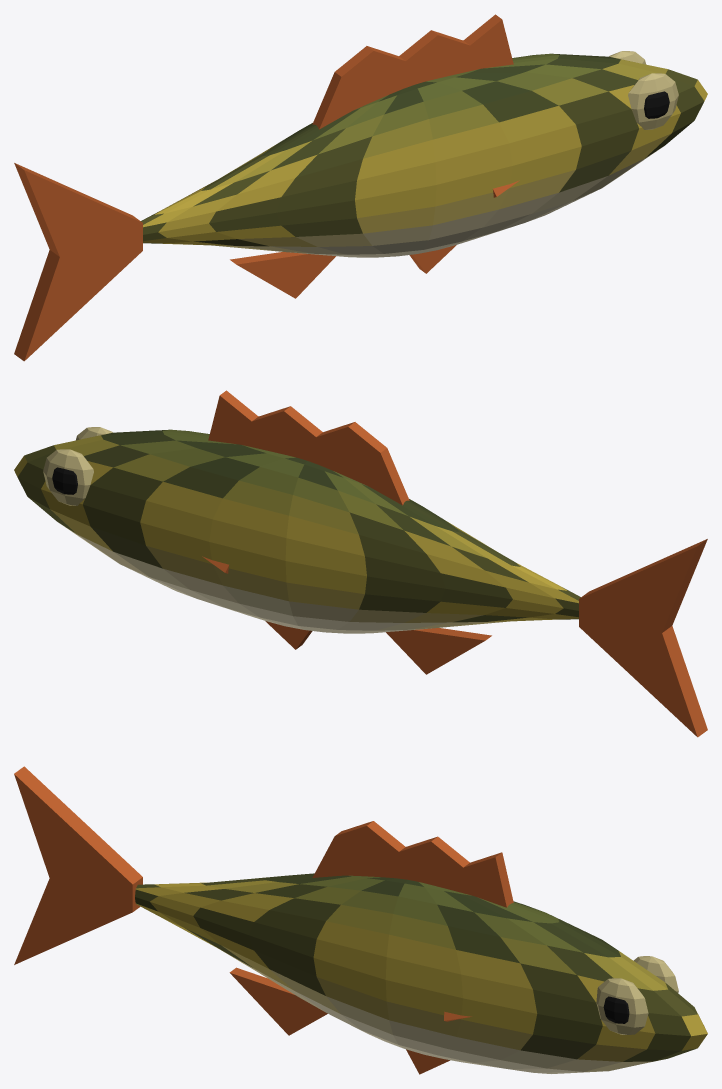
File: YellowPerch.glb
3 renders of one model, top to bottom at view 1: azimuth 30°, elevation 25°; view 2: azimuth 150°, elevation 25°; view 3: azimuth 330°, elevation 25°, orthographic.
Visible parts, largest first — view 1: YellowPerch; view 2: YellowPerch; view 3: YellowPerch.
Boxes of the visible parts, x1=… form: YellowPerch: x1=14, y1=14, x2=707, y2=361; YellowPerch: x1=14, y1=390, x2=707, y2=737; YellowPerch: x1=14, y1=766, x2=707, y2=1074.
Bounding box in the file's own units: 2.27 × 0.7437 × 0.3017.
